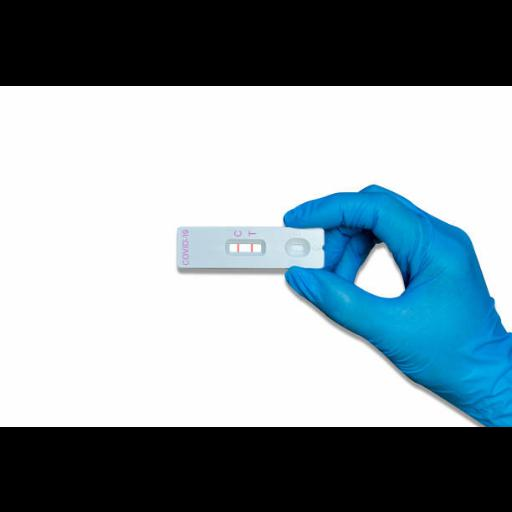Neg: (178, 224, 326, 268)
